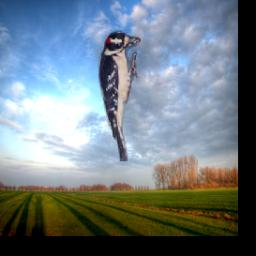Woodpecker: (98, 28, 141, 161)
